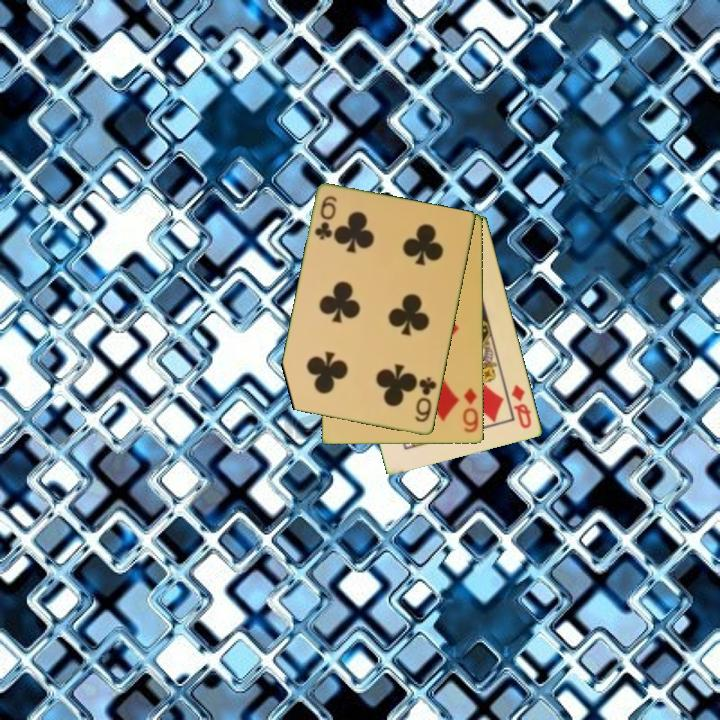6c: (311, 193, 340, 243), (412, 374, 440, 425)
6d: (460, 385, 481, 436)
Qd: (508, 381, 535, 432)
